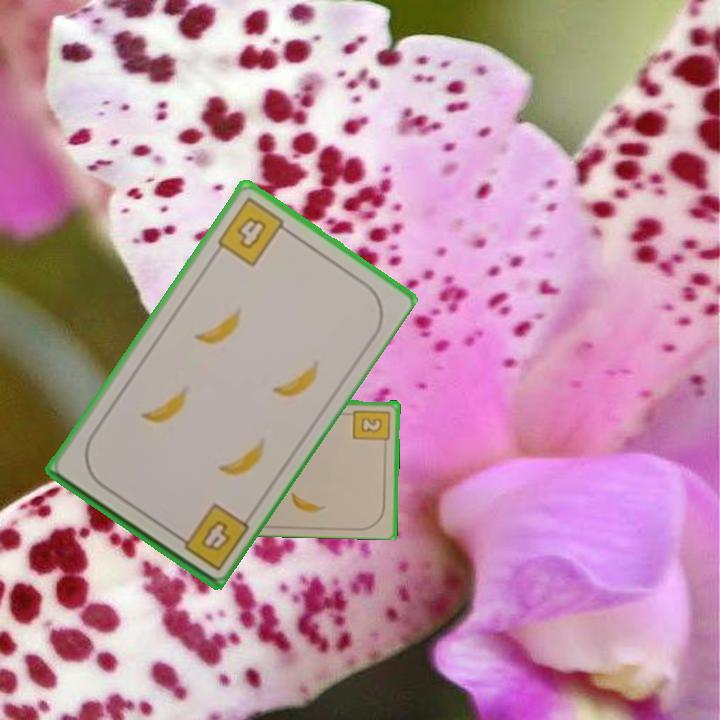2b: (350, 406, 393, 449)
4b: (213, 193, 294, 270), (169, 499, 252, 574)
